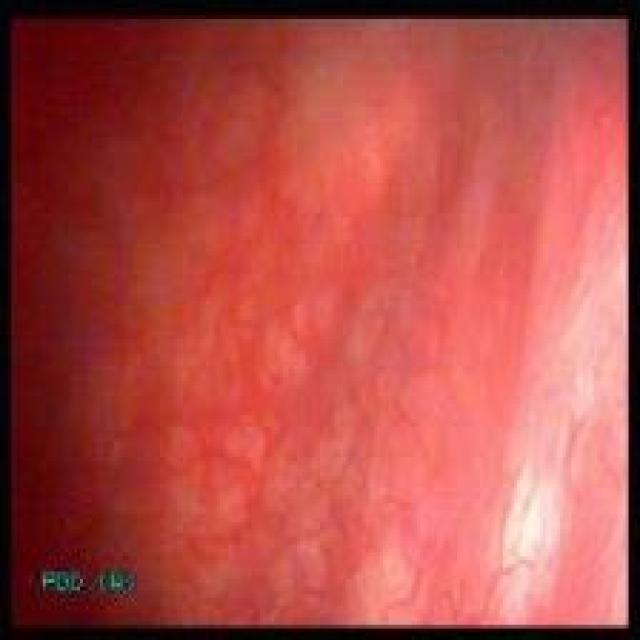color misalignment: (37, 564, 85, 598), (93, 564, 137, 598)
contrast: (10, 18, 188, 620)
saturation: (490, 391, 573, 616)
